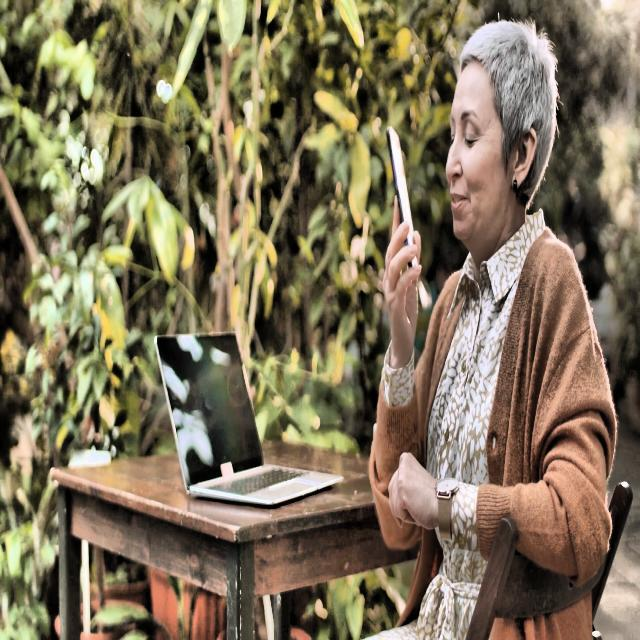Phone: (386, 122, 419, 284)
